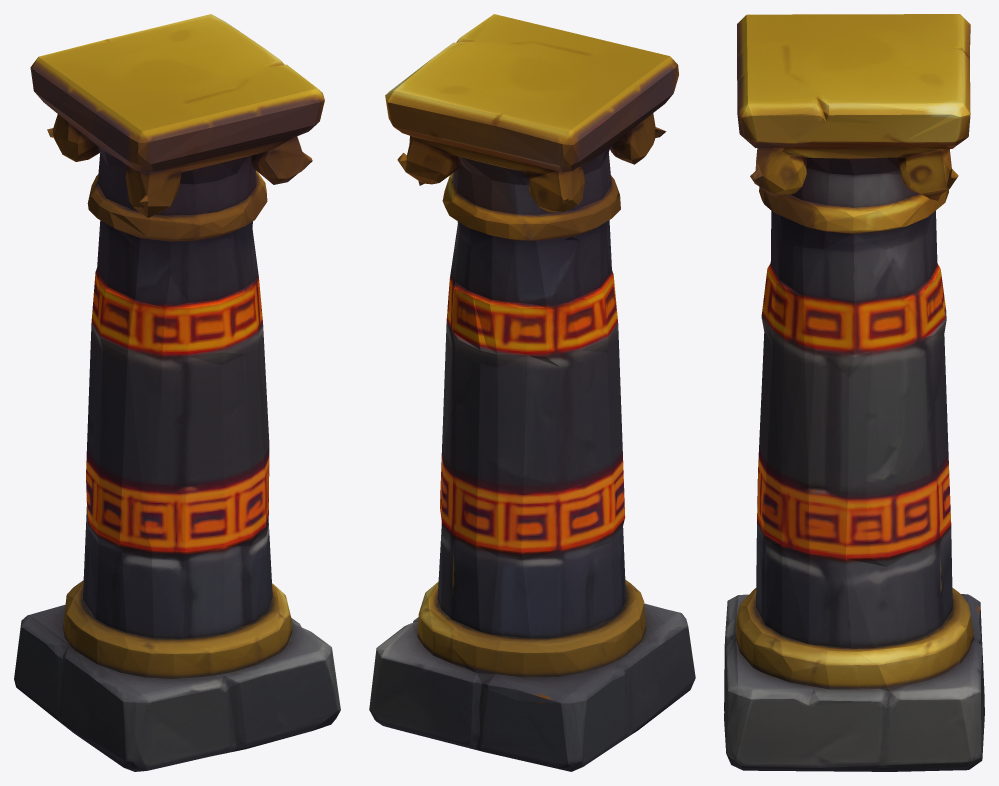
The model's file is lava_column.glb.
3 renders of one model, left to right at view 1: azimuth 30°, elevation 25°; view 2: azimuth 150°, elevation 25°; view 3: azimuth 270°, elevation 25°, orthographic. The views are drawn at different scales.
Parts seen in each view (by area): view 1: world; view 2: world; view 3: world.
Boxes of the visible parts, left/top/right/bottom form: world: left=14, top=14, right=340, bottom=771; world: left=369, top=14, right=695, bottom=771; world: left=724, top=14, right=984, bottom=771.
Bounding box in the file's own units: 0.3563 × 1 × 0.3563.
Materials: 1 (1 with a texture image).
